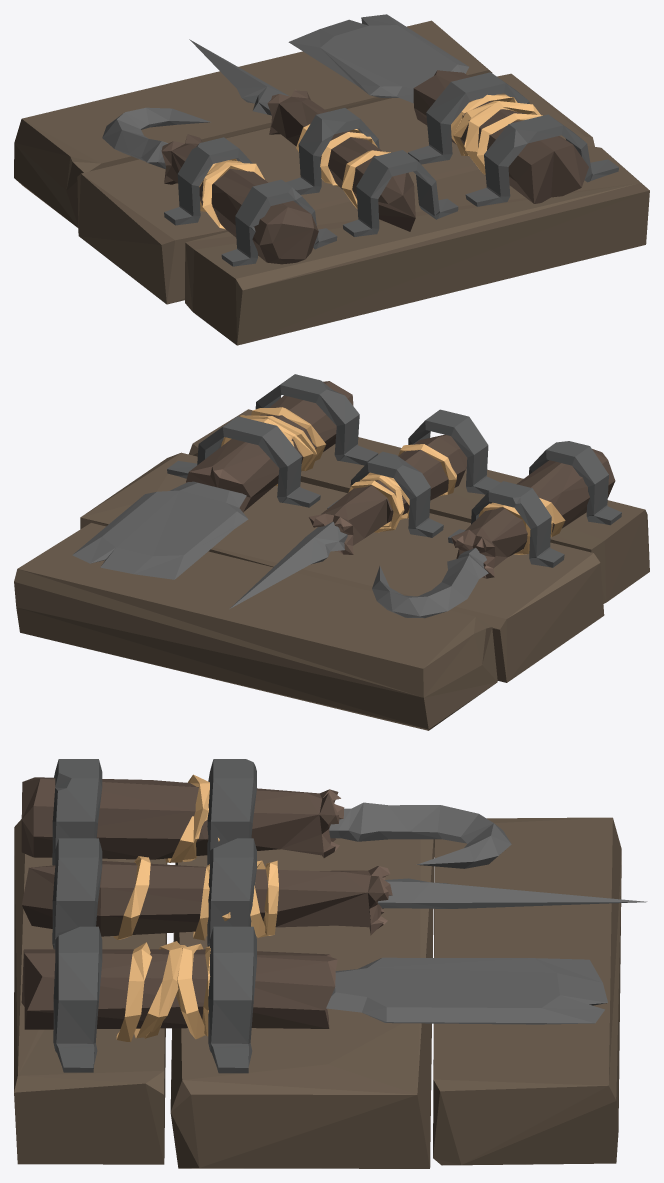
Rendered from Tool_Table_002.fbx.
3 renders of one model, top to bottom at view 1: azimuth 30°, elevation 25°; view 2: azimuth 150°, elevation 25°; view 3: azimuth 270°, elevation 25°, orthographic. The views are drawn at different scales.
Parts seen in each view (by area): view 1: Tool_Table_002; view 2: Tool_Table_002; view 3: Tool_Table_002.
Part boxes in pixels (<box>): Tool_Table_002: <box>14,14,649,345</box>; Tool_Table_002: <box>14,374,649,730</box>; Tool_Table_002: <box>14,759,647,1168</box>.
Bounding box in the file's own units: 0.2816 × 0.0786 × 0.2652.
